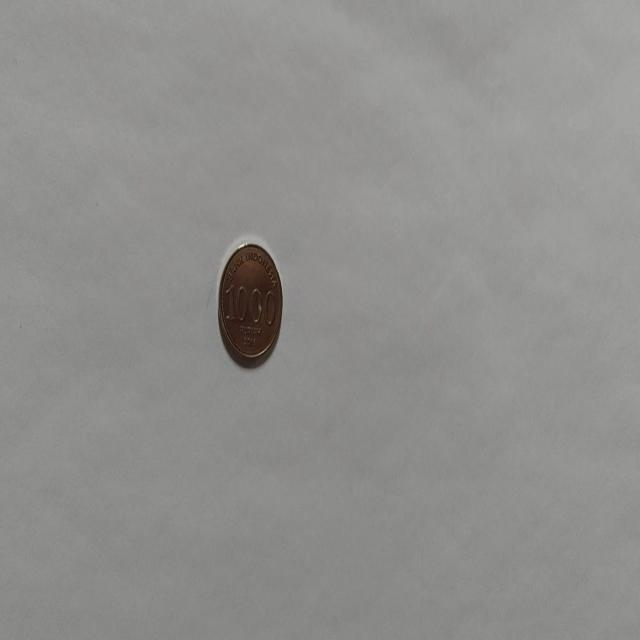seribu rupiah koin: (216, 239, 283, 367)
